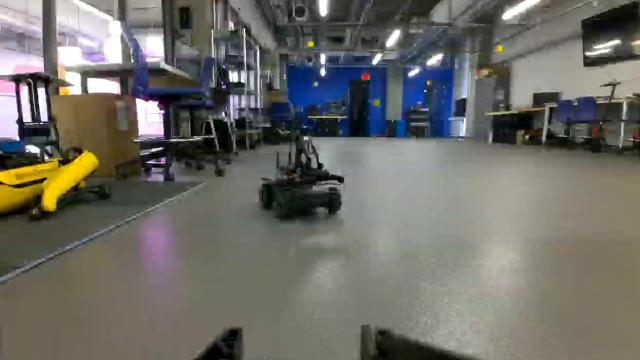robot: (253, 119, 349, 226)
